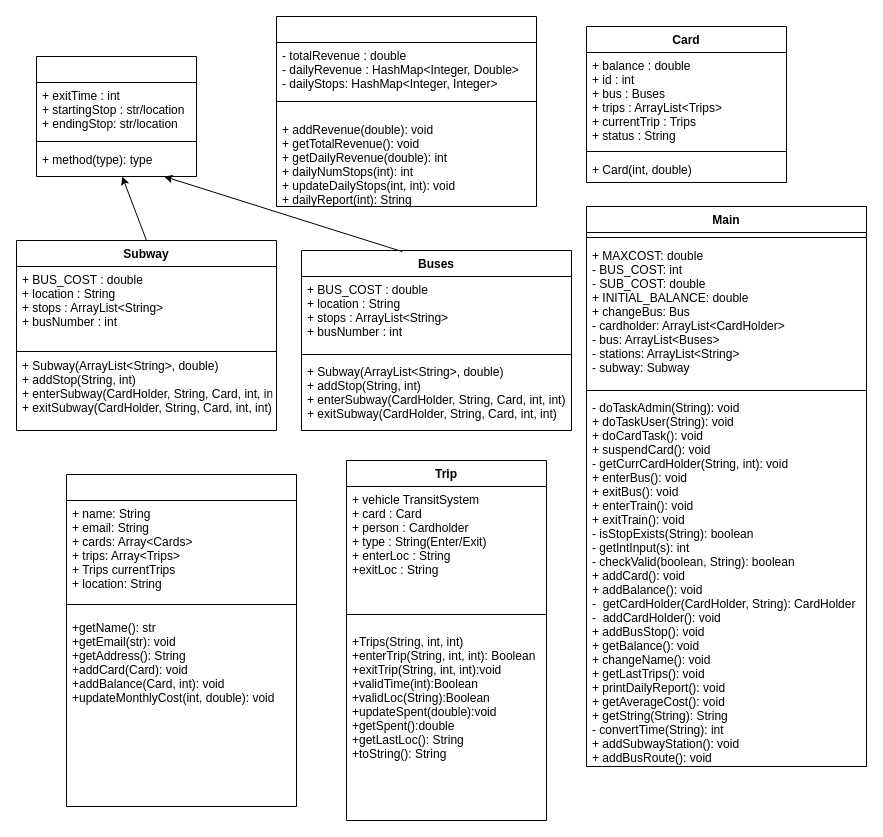
The diagram is 883 pixels wide and 837 high, and some of its shapes have lost their labels. Here are the shapes that lost their labels. From the top down, the box of each, then its label:
(36, 56, 196, 176): TransitSystem
(276, 16, 536, 206): Admin
(66, 474, 296, 806): CardHolders
